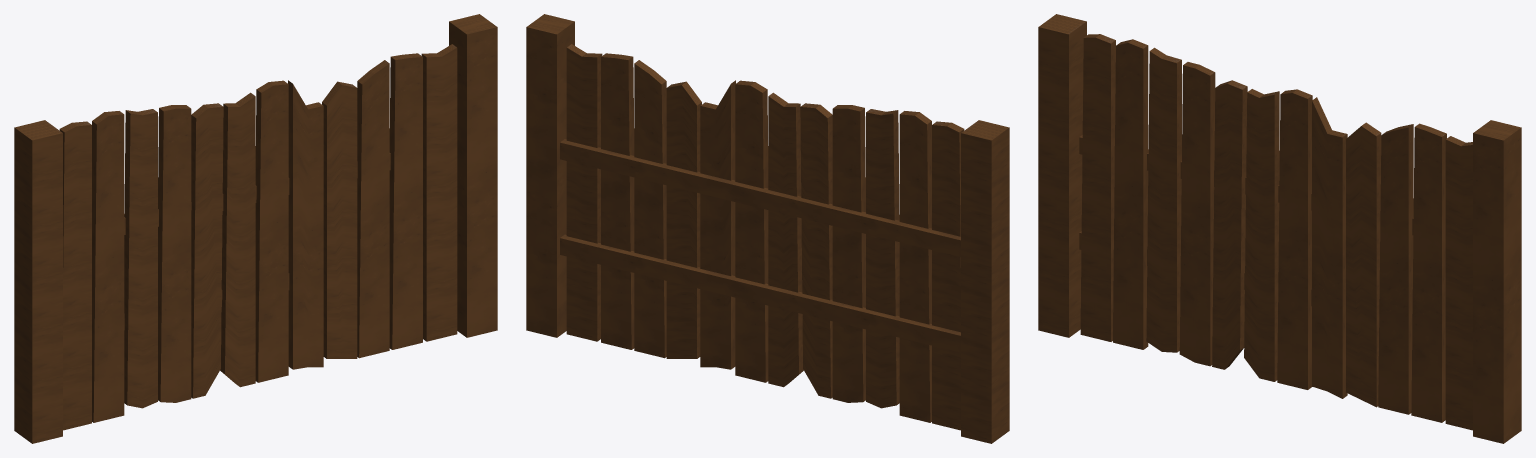
The model's file is Fence_ver1.fbx.
3 views of the same model, side by side, from view 1: azimuth 30°, elevation 25°; view 2: azimuth 150°, elevation 25°; view 3: azimuth 330°, elevation 25° (orthographic).
Visible parts, largest first — view 1: Cube.033; view 2: Cube.033; view 3: Cube.033.
Part boxes in pixels (x1,y1,x2,y2): Cube.033: [14, 14, 497, 443]; Cube.033: [526, 14, 1009, 443]; Cube.033: [1038, 14, 1521, 443].
Size of the model in its own units: 761 by 475 by 50.67.
